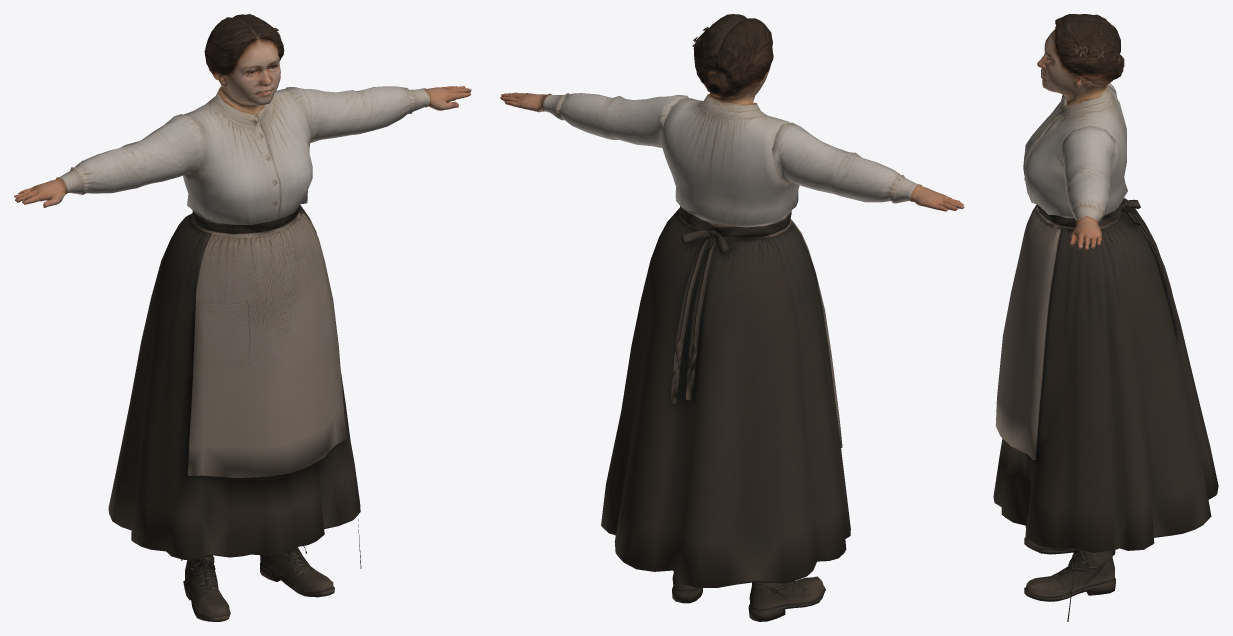
Rendered from working clas middle aged woman.fbx.
The picture shows the model from 3 angles, left to right: view 1: azimuth 30°, elevation 25°; view 2: azimuth 150°, elevation 25°; view 3: azimuth 270°, elevation 25°; orthographic projection. The views are drawn at different scales.
Parts seen in each view (by area): view 1: tripo_node_b5d82474; view 2: tripo_node_b5d82474; view 3: tripo_node_b5d82474.
Part boxes in pixels (left/top/right/bottom): tripo_node_b5d82474: left=14, top=14, right=471, bottom=621; tripo_node_b5d82474: left=500, top=14, right=964, bottom=621; tripo_node_b5d82474: left=993, top=14, right=1218, bottom=621.
Bounding box in the file's own units: 83.79 × 36.91 × 99.8.
Materials: 1 (1 with a texture image).
